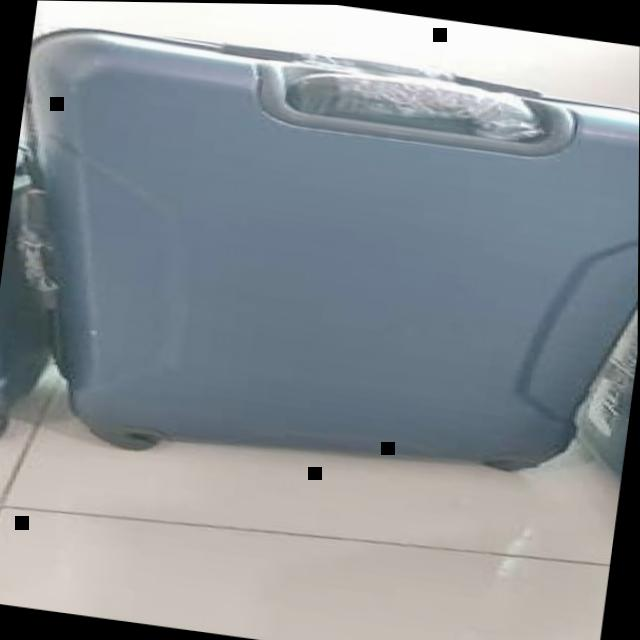luggage: (0, 6, 640, 519)
